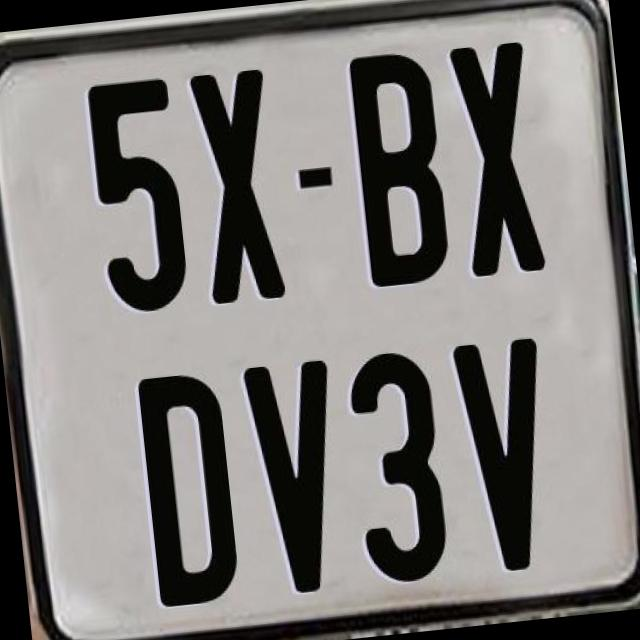3: (347, 348, 458, 588)
5: (86, 77, 195, 319)
B: (346, 47, 456, 286)
D: (134, 370, 248, 617)
V: (239, 356, 354, 593), (451, 338, 560, 584)
X: (188, 68, 291, 314), (445, 38, 543, 274)
